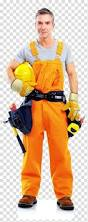hard hat: (14, 61, 35, 83)
